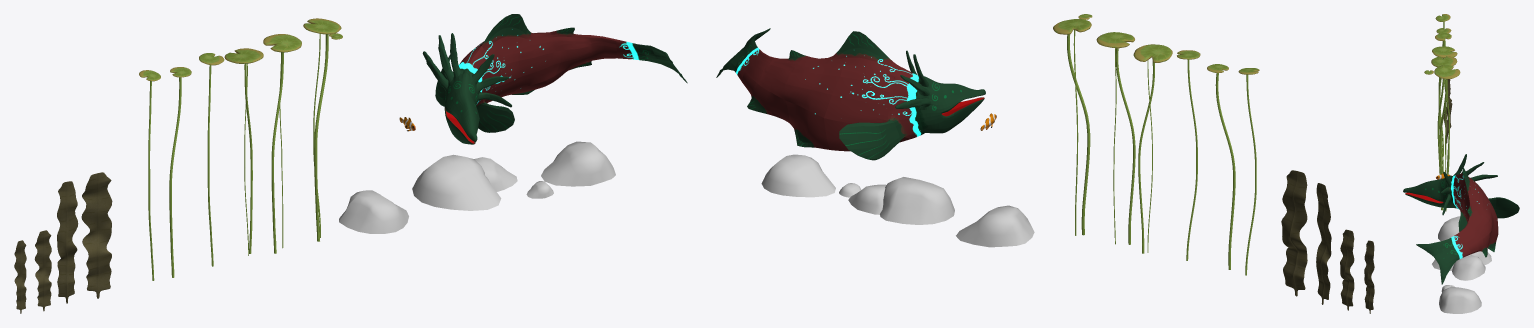
Rendered from underwaterScene_edit_for_FBX.fbx.
3 renders of one model, left to right at view 1: azimuth 30°, elevation 25°; view 2: azimuth 150°, elevation 25°; view 3: azimuth 270°, elevation 25°, orthographic. The views are drawn at different scales.
Parts seen in each view (by area): view 1: fish02, stone02, seaweed04, stone03, stone01, seaweed03, waterPlants06, waterPlants05, waterPlants04, seaweed02, waterPlants02, waterPlants03 (+2 smaller); view 2: fish02, stone02, stone03, seaweed04, stone01, waterPlants06, waterPlants05, waterPlants04, seaweed03, seaweed02, waterPlants02, waterPlants03 (+2 smaller); view 3: fish02, stone03, stone02, waterPlants06, waterPlants05, waterPlants04, stone01, waterPlants03, seaweed04, waterPlants01, waterPlants02.
Boxes of the visible parts, box(x1,y1,x2,y2) form: fish02: box(422, 14, 687, 144); stone02: box(412, 154, 517, 210); seaweed04: box(81, 172, 112, 298); stone03: box(526, 141, 615, 198); stone01: box(339, 190, 408, 233); seaweed03: box(57, 181, 78, 303); waterPlants06: box(303, 18, 342, 241); waterPlants05: box(263, 34, 301, 253); waterPlants04: box(224, 48, 263, 255); seaweed02: box(34, 230, 51, 311); waterPlants02: box(169, 67, 191, 277); waterPlants03: box(199, 53, 224, 266); fish02: box(716, 28, 985, 160); stone02: box(848, 177, 954, 224); stone03: box(761, 154, 860, 197); seaweed04: box(1281, 170, 1307, 296); stone01: box(956, 205, 1034, 247); waterPlants06: box(1053, 14, 1092, 235); waterPlants05: box(1096, 32, 1135, 244); waterPlants04: box(1133, 44, 1172, 253); seaweed03: box(1316, 183, 1331, 304); seaweed02: box(1340, 229, 1354, 310); waterPlants02: box(1207, 64, 1235, 269); waterPlants03: box(1177, 50, 1200, 260); fish02: box(1403, 154, 1519, 284); stone03: box(1439, 285, 1481, 313); stone02: box(1432, 251, 1491, 280); waterPlants06: box(1424, 65, 1460, 211); waterPlants05: box(1431, 56, 1457, 174); waterPlants04: box(1432, 46, 1457, 174); stone01: box(1438, 216, 1460, 241); waterPlants03: box(1435, 33, 1451, 172); seaweed04: box(1443, 79, 1451, 143); waterPlants01: box(1435, 14, 1450, 156); waterPlants02: box(1436, 28, 1451, 146).
Bounding box in the file's own units: 2839 × 917 × 644.
